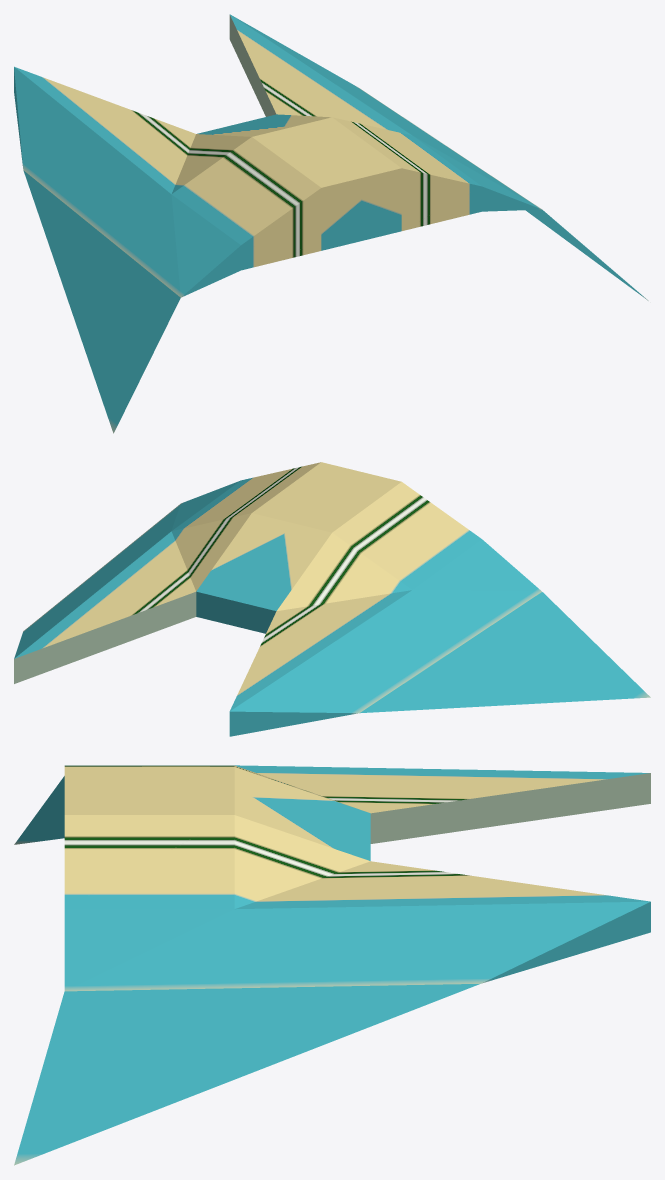
File: ship4.fbx
3 views of the same model, one above another, from view 1: azimuth 30°, elevation 25°; view 2: azimuth 150°, elevation 25°; view 3: azimuth 270°, elevation 25° (orthographic). The views are drawn at different scales.
Visible parts, largest first — view 1: Cube.002; view 2: Cube.002; view 3: Cube.002.
Part boxes in pixels (x1=…): Cube.002: x1=14, y1=14, x2=648, y2=433; Cube.002: x1=14, y1=462, x2=650, y2=736; Cube.002: x1=14, y1=765, x2=650, y2=1165.
Bounding box in the file's own units: 446 × 139 × 374.
